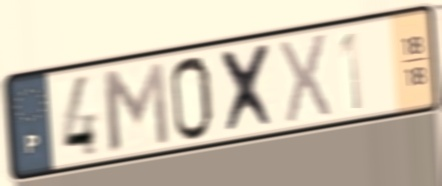0: (167, 53, 216, 144)
1: (338, 29, 365, 111)
4: (55, 72, 105, 161)
M: (98, 58, 173, 155)
X: (217, 39, 281, 138), (277, 29, 334, 127)
